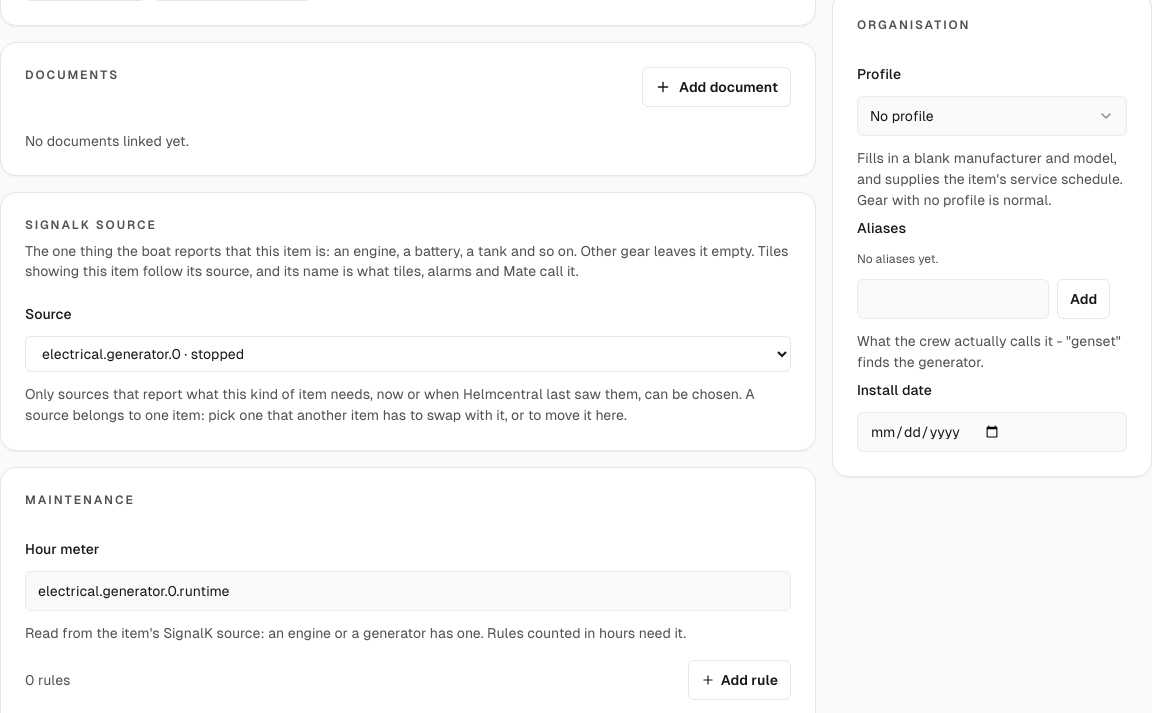
it: EquipmentEditor › taking a source another item owns › stages a move, not a swap, when the item's own source is another kind
(page scrolled)
Select "electrical.batteries.512 · 13.10 V · on Lithium bank" in the dropdown labelled "Source". click: coordinates (408, 354)
box: [25,336,791,372]
(page scrolled)
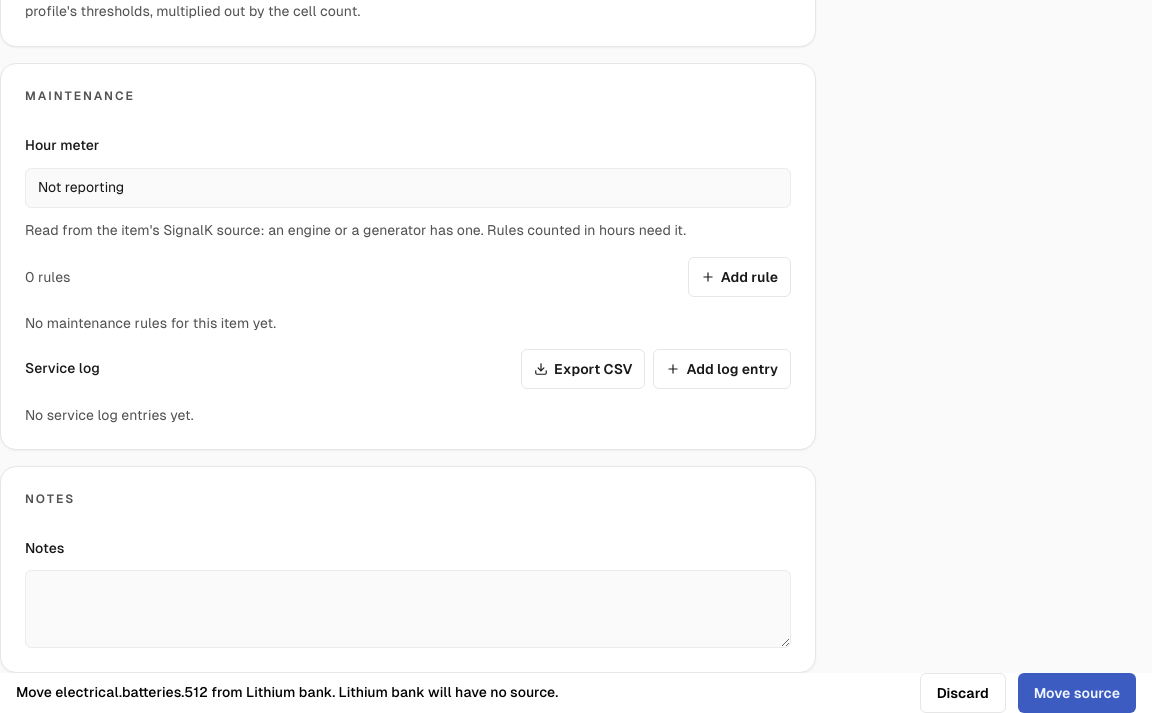
Result: the text "Move electrical.batteries.512 from Lithium bank. Lithium bank will have no source." is shown at [16,684,558,700]
Result: the button "Move source" is shown at [1018,673,1136,712]
